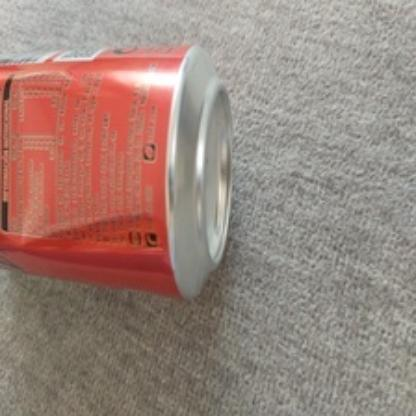Can: (0, 43, 237, 299)
